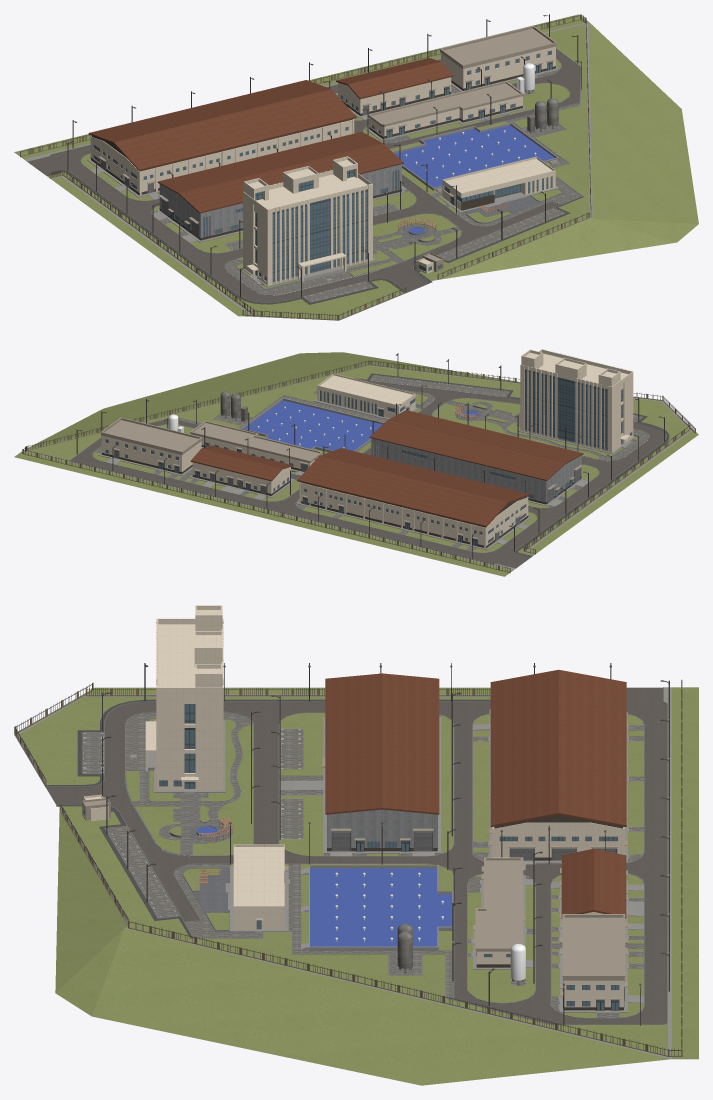
The picture shows the model from 3 angles, top to bottom: view 1: azimuth 30°, elevation 25°; view 2: azimuth 150°, elevation 25°; view 3: azimuth 270°, elevation 25°; orthographic projection. The views are drawn at different scales.
Parts seen in each view (by area): view 1: ground_001, main_building_001, Comprehensive_Water_purification_001, cistern_water_001, Comprehensive_sludge_dewatering_001, primary_secondary_pumps_001, Comprehensive_dosing_001, rail_002, light_021, cistern_001; view 2: ground_001, main_building_001, Comprehensive_Water_purification_001, rail_002, cistern_water_001, Comprehensive_sludge_dewatering_001, Comprehensive_dosing_001, primary_secondary_pumps_001, light_021, cistern_001; view 3: ground_001, main_building_001, Comprehensive_Water_purification_001, cistern_water_001, rail_002, Comprehensive_sludge_dewatering_001, primary_secondary_pumps_001, Comprehensive_dosing_001, light_021, cistern_001.
Part boxes in pixels (bbox=[...]): ground_001: bbox=[14, 14, 698, 320]; main_building_001: bbox=[157, 131, 555, 285]; Comprehensive_Water_purification_001: bbox=[88, 80, 356, 195]; cistern_water_001: bbox=[394, 125, 554, 187]; Comprehensive_sludge_dewatering_001: bbox=[439, 25, 556, 90]; primary_secondary_pumps_001: bbox=[368, 80, 523, 138]; Comprehensive_dosing_001: bbox=[336, 58, 453, 115]; rail_002: bbox=[20, 14, 591, 320]; light_021: bbox=[67, 14, 581, 297]; cistern_001: bbox=[392, 122, 558, 190]; ground_001: bbox=[14, 352, 698, 576]; main_building_001: bbox=[317, 349, 633, 504]; Comprehensive_Water_purification_001: bbox=[297, 448, 529, 548]; rail_002: bbox=[22, 360, 695, 572]; cistern_water_001: bbox=[244, 400, 382, 450]; Comprehensive_sludge_dewatering_001: bbox=[100, 417, 202, 473]; Comprehensive_dosing_001: bbox=[190, 445, 292, 495]; primary_secondary_pumps_001: bbox=[190, 420, 322, 471]; light_021: bbox=[76, 353, 664, 559]; cistern_001: bbox=[241, 398, 384, 452]; ground_001: bbox=[14, 687, 698, 1085]; main_building_001: bbox=[82, 605, 439, 929]; Comprehensive_Water_purification_001: bbox=[489, 669, 627, 860]; cistern_water_001: bbox=[310, 868, 452, 946]; rail_002: bbox=[14, 679, 682, 1056]; Comprehensive_sludge_dewatering_001: bbox=[560, 914, 627, 1010]; primary_secondary_pumps_001: bbox=[473, 857, 525, 967]; Comprehensive_dosing_001: bbox=[560, 848, 627, 928]; light_021: bbox=[101, 663, 669, 1025]; cistern_001: bbox=[309, 865, 453, 950].
Bounding box in the file's own units: 228 × 40.93 × 177.
